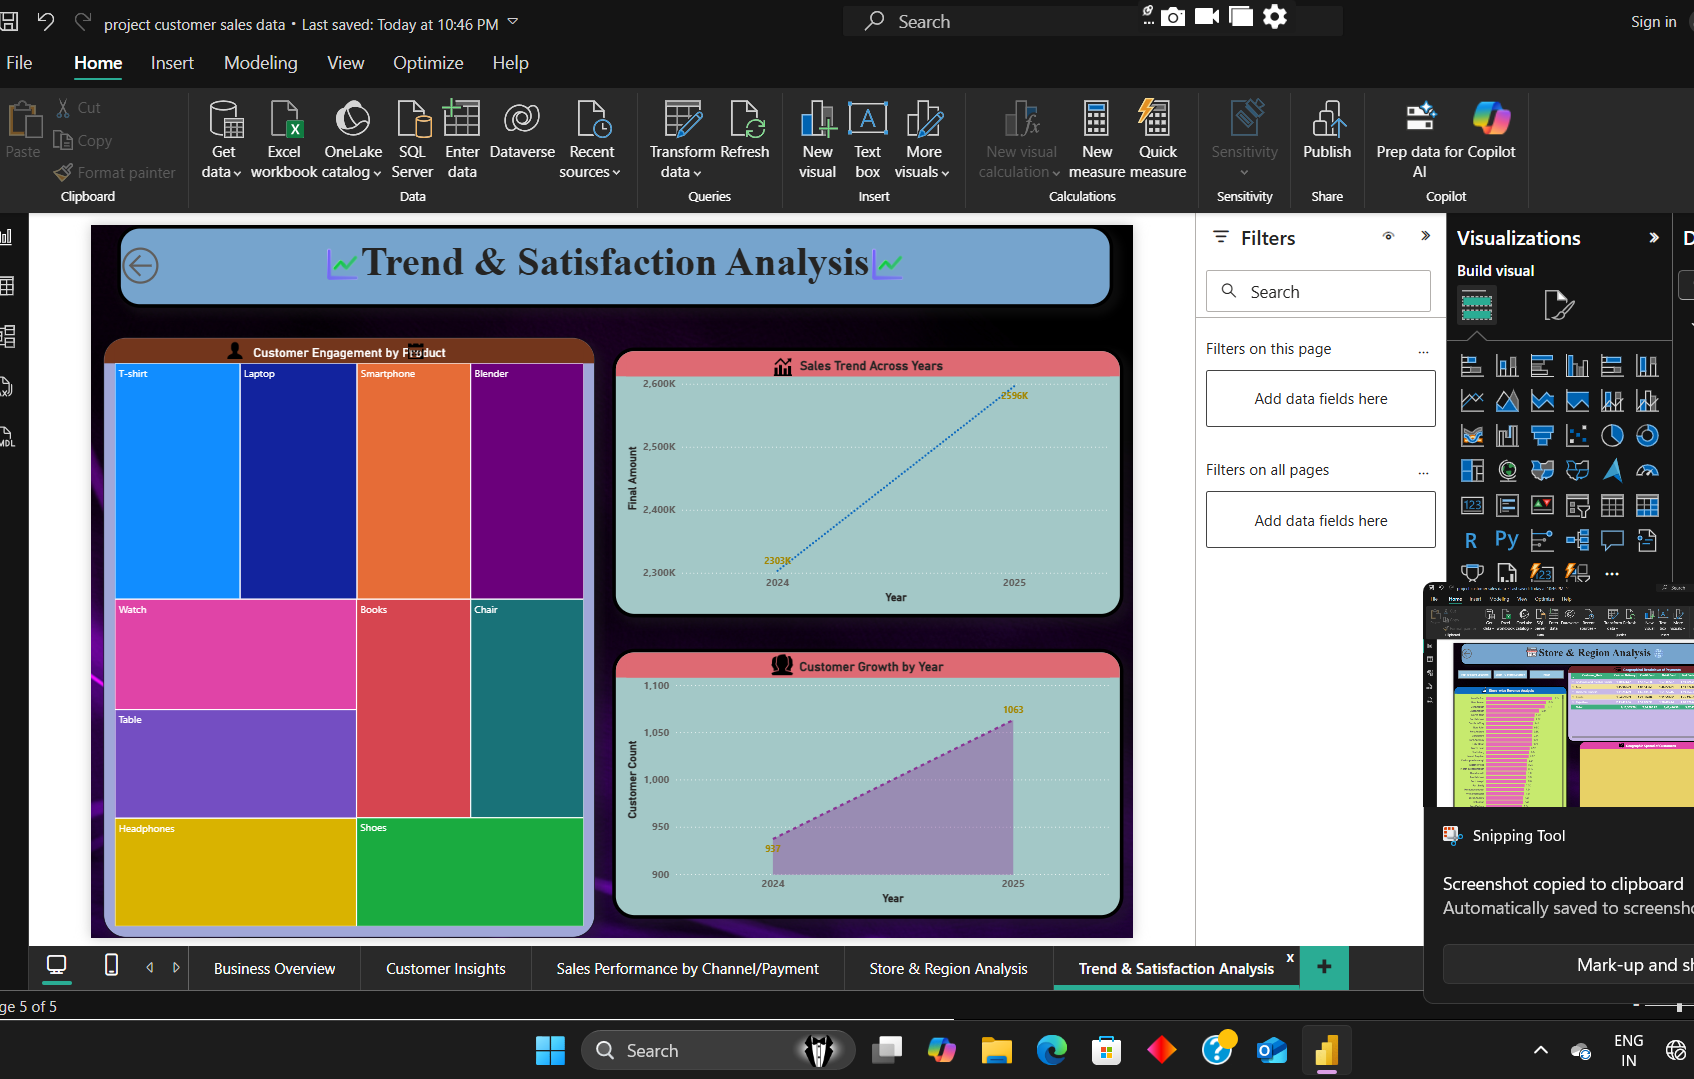

The page's visual inventory and layout, read from the dashboard file:
{"tool":"powerbi","page":{"name":"Trend & Satisfaction Analysis","canvas":[1390,950],"ordinal":4},"visuals":[{"type":"textbox","box":[35,0,1328.3,110],"z":0},{"type":"lineChart","title":"Sales Trend Across Years","fields":{"Y":["Sum(Fact_Purchase.Final_Amount)"],"Category":["Dim_Date.Date.Variation.Date Hierarchy.Year","Dim_Date.Date.Variation.Date Hierarchy.Quarter","Dim_Date.Date.Variation.Date Hierarchy.Month","Dim_Date.Date.Variation.Date Hierarchy.Day"]},"box":[695,163.3,681.7,360],"z":1000},{"type":"areaChart","title":"Customer Growth by Year","fields":{"Category":["Dim_Date.Date.Variation.Date Hierarchy.Year","Dim_Date.Date.Variation.Date Hierarchy.Quarter","Dim_Date.Date.Variation.Date Hierarchy.Month","Dim_Date.Date.Variation.Date Hierarchy.Day"],"Y":["CountNonNull(Dim_Customer.Customer_ID)"]},"box":[695,565,681.7,360],"z":2000},{"type":"actionButton","box":[35,23.3,61.7,61.7],"z":4000},{"type":"treemap","title":"Customer Engagement by Product","fields":{"Group":["Dim_Product.Product_Name"],"Values":["CountNonNull(Fact_Purchase.Customer_ID)"]},"box":[16.7,150,655,800],"z":5000},{"type":"image","box":[158.3,150,66.7,35],"z":6000},{"type":"image","box":[900,565,43.3,43.3],"z":7000},{"type":"image","box":[901.7,168.3,41.7,41.7],"z":8000},{"type":"image","box":[298.3,20,75,65],"z":10000},{"type":"image","box":[1025,20,75,65],"z":11000}]}

Visuals, with their boxes on the page's 1390x950 design canvas (x1, y1, x2, y2). These are canvas units, not pixel positions in the 1694x1079 screenshot, which may show the page scaled, cropped or inside an application window:
textbox: <region>35, 0, 1363, 110</region>
"Sales Trend Across Years" lineChart: <region>695, 163, 1377, 523</region>
"Customer Growth by Year" areaChart: <region>695, 565, 1377, 925</region>
actionButton: <region>35, 23, 97, 85</region>
"Customer Engagement by Product" treemap: <region>17, 150, 672, 950</region>
image: <region>158, 150, 225, 185</region>
image: <region>900, 565, 943, 608</region>
image: <region>902, 168, 943, 210</region>
image: <region>298, 20, 373, 85</region>
image: <region>1025, 20, 1100, 85</region>
